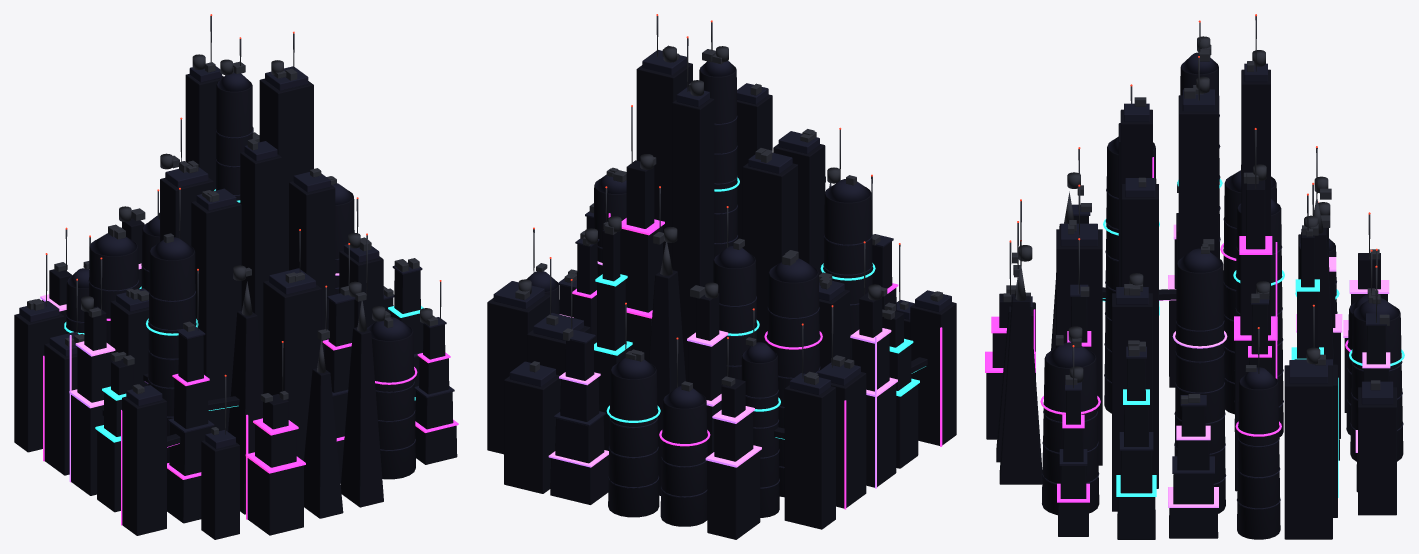
File: city.glb
3 views of the same model, side by side, from view 1: azimuth 30°, elevation 25°; view 2: azimuth 150°, elevation 25°; view 3: azimuth 270°, elevation 25° (orthographic). The views are drawn at different scales.
Parts seen in each view (by area): view 1: City.001; view 2: City.001; view 3: City.001.
Part boxes in pixels (box(x1,y1,x2,y2)): City.001: box(14, 14, 458, 539); City.001: box(487, 14, 956, 539); City.001: box(985, 14, 1404, 539).
Bounding box in the file's own units: 16.68 × 20.08 × 17.25.
